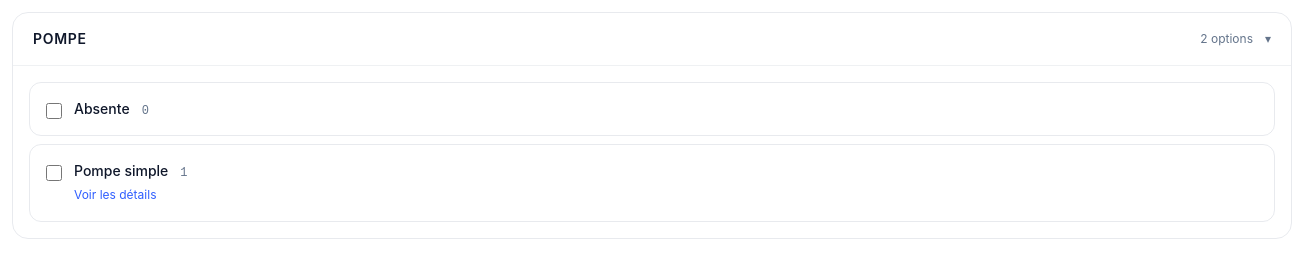
OptionsAccordion › toggles the body open/closed via the header button
Expected: the text "Pompe simple" is shown, [74,161,168,181]
Click the button "Pompe 2 options ▾" at (60, 38), box [13,13,1291,65]
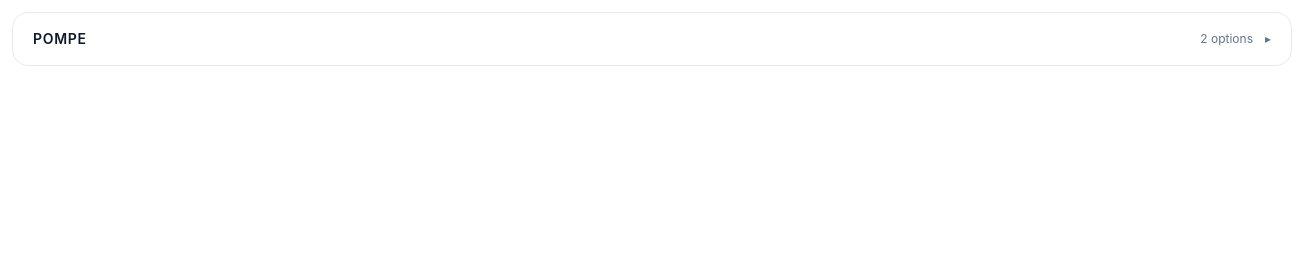
Result: the text "Pompe simple" is gone
